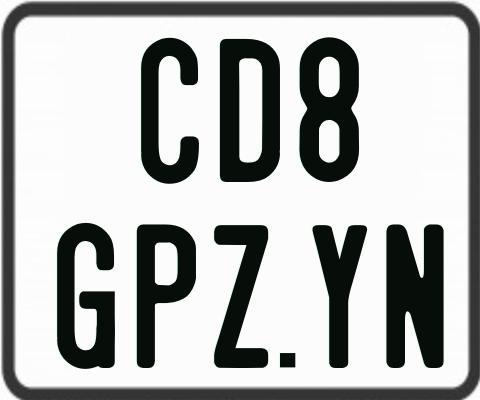8: (297, 34, 361, 181)
C: (140, 38, 199, 190)
D: (219, 37, 282, 186)
G: (57, 220, 120, 368)
N: (385, 221, 444, 365)
P: (134, 222, 193, 369)
Y: (309, 223, 370, 367)
Z: (212, 222, 266, 367)
